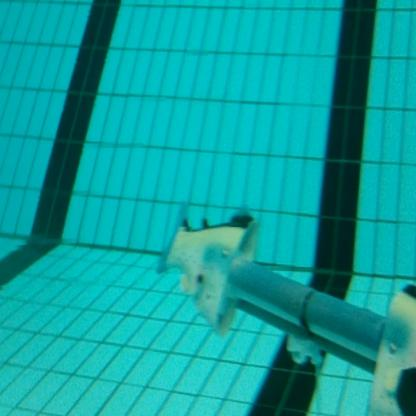tail: (156, 196, 262, 338)
